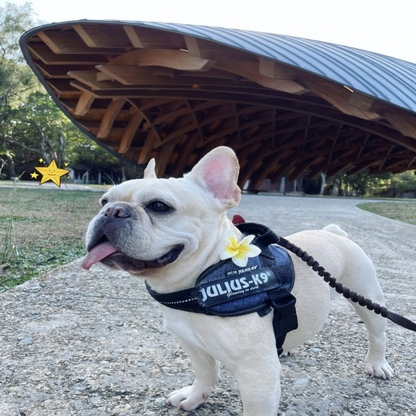bulldog: (82, 141, 397, 416)
